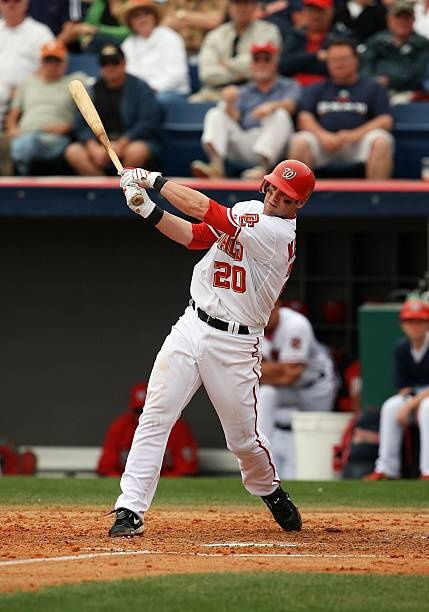bita: (71, 78, 140, 205)
